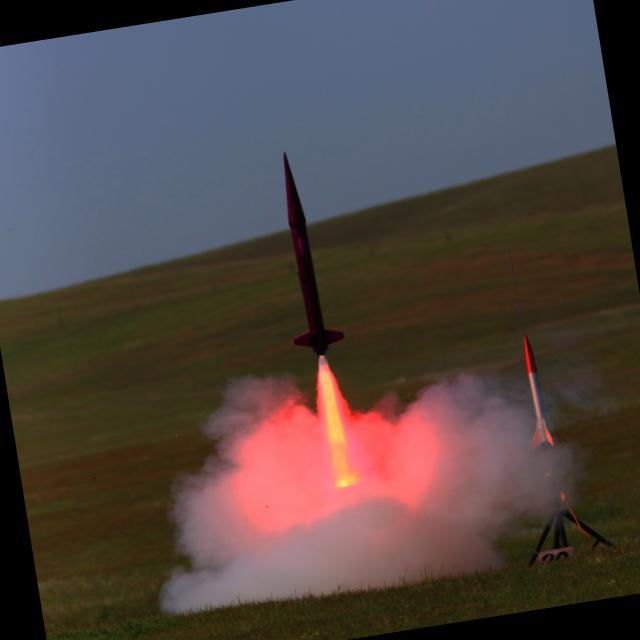rocket: (262, 138, 387, 473)
